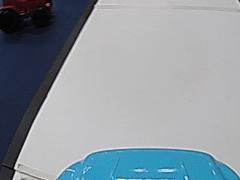Tracktor: (0, 0, 53, 31)
